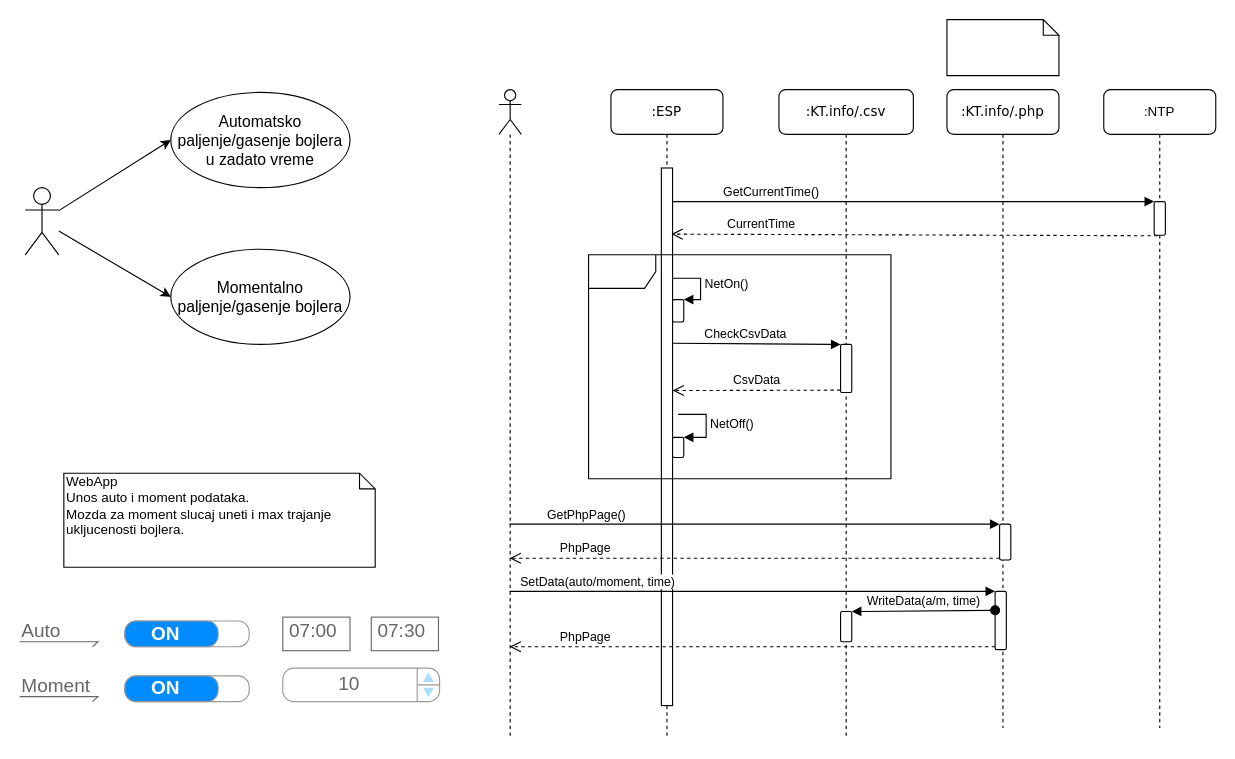
The diagram is 1235 pixels wide and 759 high, and some of its shapes have lost their labels. Here are the shapes that lost their labels. From the top down, the centre of each, then its label:
At [1002,47]: "WebApp koja uredjuje .csv fajl.".
At [41,220]: "Actor".
At [739,366]: "svakih x secs".
